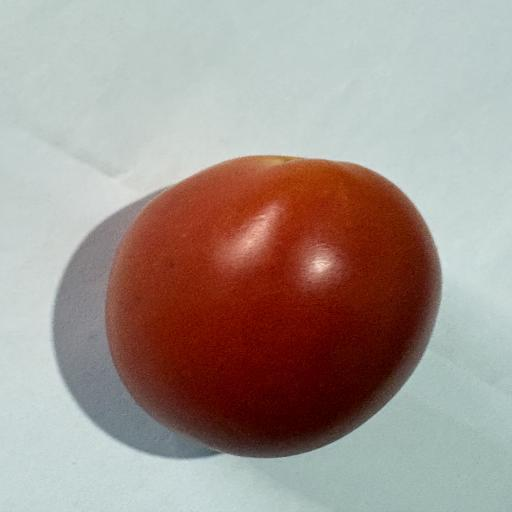ripe: (106, 155, 441, 457)
